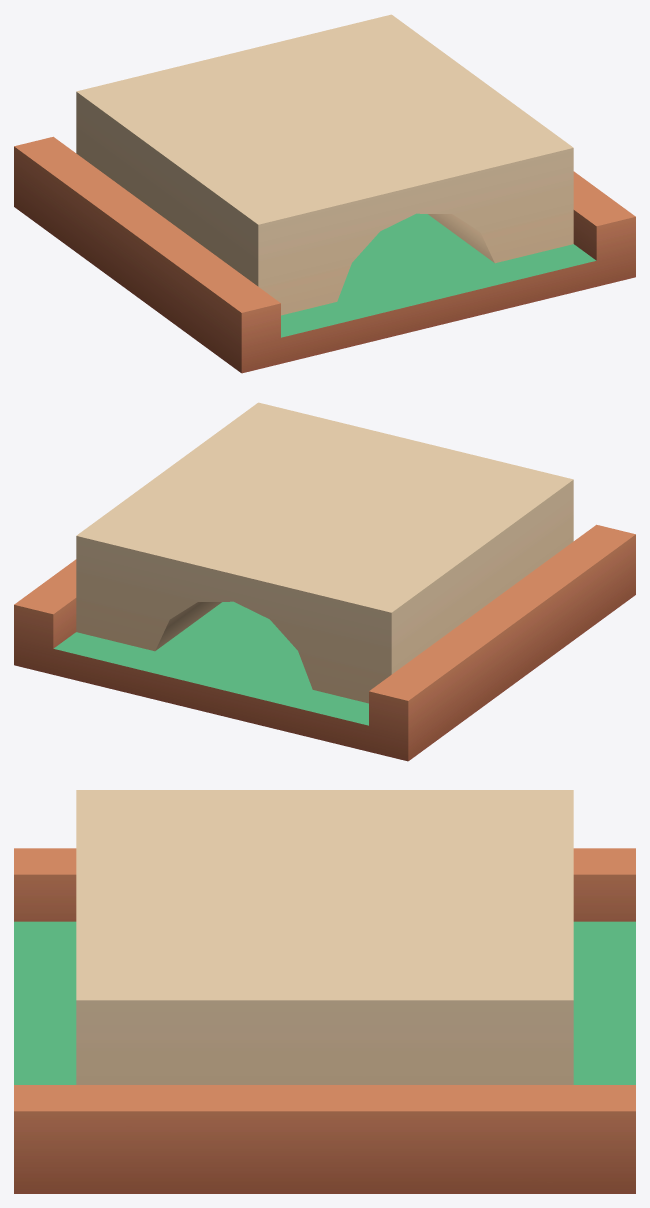
File: tunnel-wide.glb
3 renders of one model, top to bottom at view 1: azimuth 30°, elevation 25°; view 2: azimuth 150°, elevation 25°; view 3: azimuth 270°, elevation 25°, orthographic. The views are drawn at different scales.
Parts seen in each view (by area): view 1: tunnel-wide; view 2: tunnel-wide; view 3: tunnel-wide.
Part boxes in pixels (x1,y1,x2,y2): tunnel-wide: [14, 14, 635, 373]; tunnel-wide: [14, 402, 635, 761]; tunnel-wide: [14, 790, 635, 1193].
Size of the model in its own units: 0.9999 by 0.2966 by 0.9999.
Materials: 1 (1 with a texture image).
